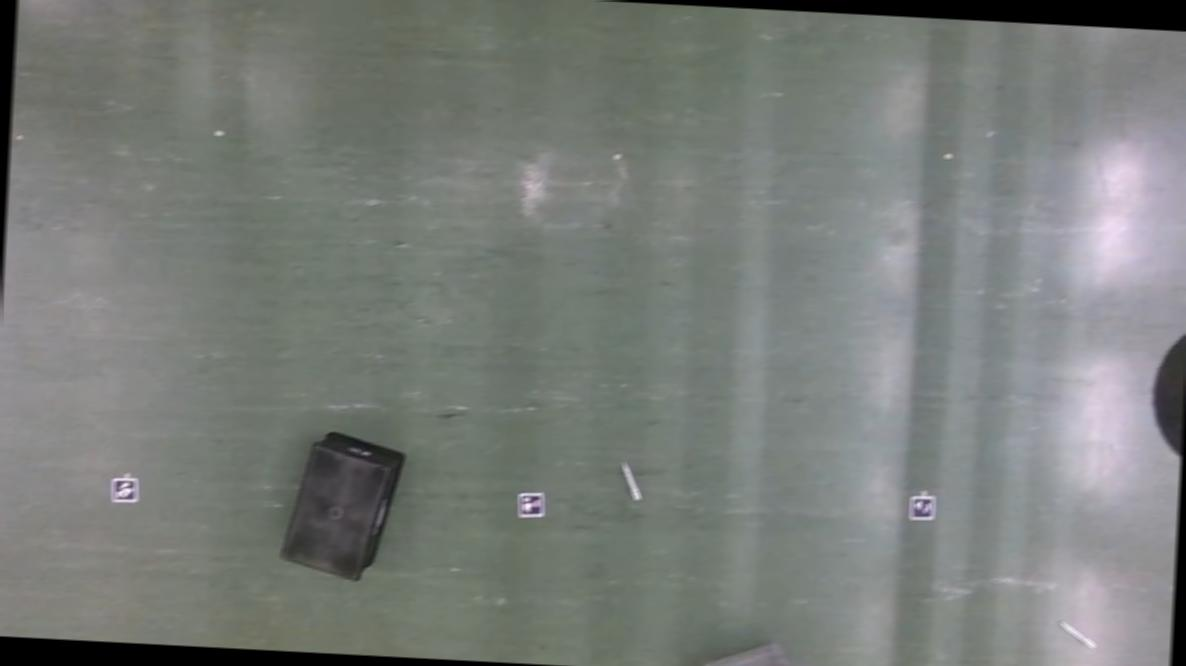probes: (1060, 618, 1096, 646), (621, 459, 642, 498)
rako: (280, 425, 406, 580), (700, 636, 805, 666)
